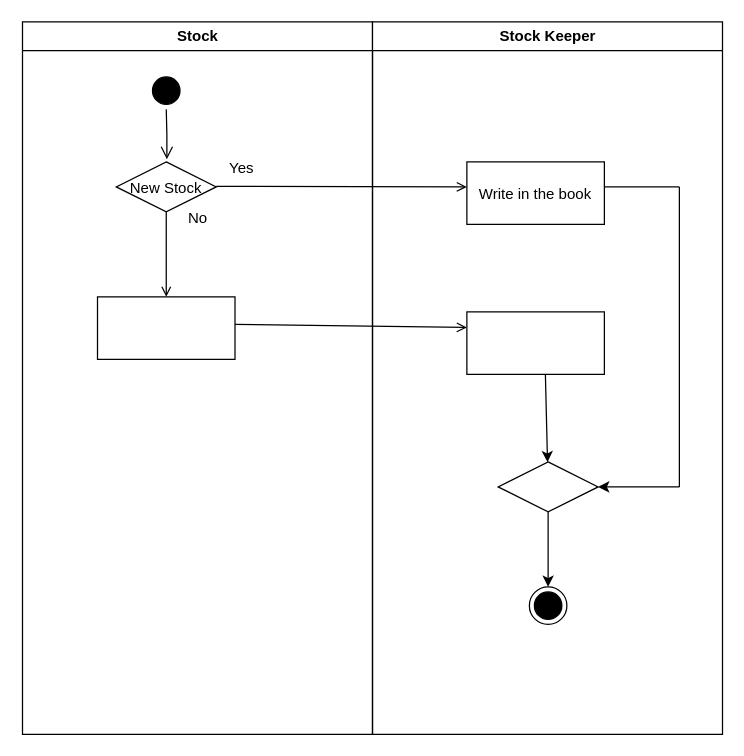
Image size: 744x756. Some labels were removed from this diagram. Here are the shapes that lost their labels. From the top down, the box of each, then its label:
(96, 296, 235, 359): Stock Releasing
(466, 311, 604, 374): Release the Stock
